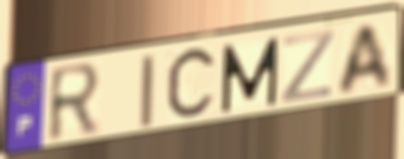A: (335, 20, 395, 98)
C: (164, 42, 220, 126)
I: (138, 52, 156, 131)
M: (220, 35, 281, 117)
R: (46, 59, 106, 148)
Z: (279, 27, 337, 107)
